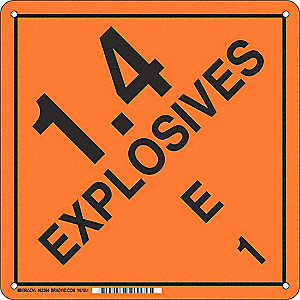Explosive: (9, 10, 290, 289)
